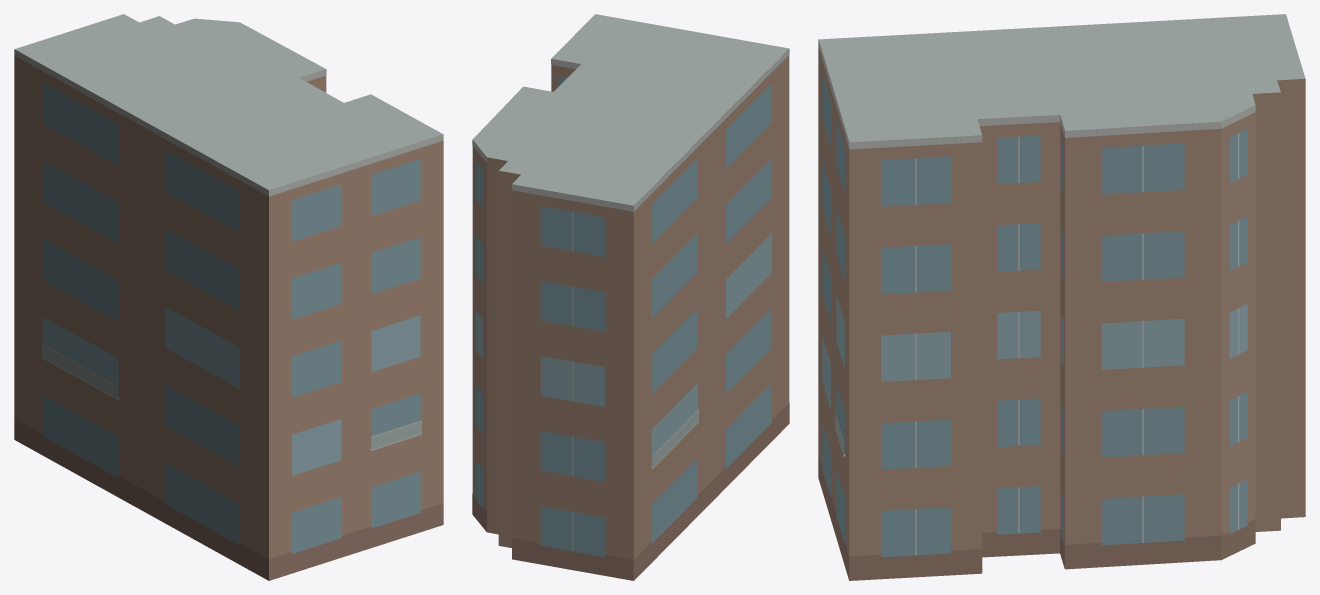
File: survey-upis-32741597.glb
3 renders of one model, left to right at view 1: azimuth 30°, elevation 25°; view 2: azimuth 150°, elevation 25°; view 3: azimuth 270°, elevation 25°, orthographic. The views are drawn at different scales.
Visible parts, largest first — view 1: survey-upis-32741597.tmp; view 2: survey-upis-32741597.tmp; view 3: survey-upis-32741597.tmp.
Boxes of the visible parts, <box> form: survey-upis-32741597.tmp: <box>14,14,443,580</box>; survey-upis-32741597.tmp: <box>472,14,789,580</box>; survey-upis-32741597.tmp: <box>818,14,1305,580</box>.
Size of the model in its own units: 9.57 by 15.2 by 15.32.
